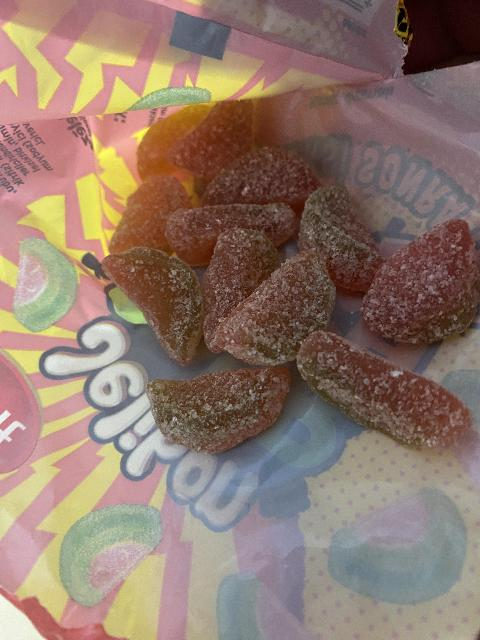Organik: (303, 329, 462, 449), (211, 256, 340, 371), (146, 351, 292, 449), (357, 224, 475, 341), (108, 256, 208, 362), (127, 114, 257, 194), (290, 184, 386, 283), (176, 200, 281, 267), (113, 176, 183, 259), (214, 165, 311, 217)
